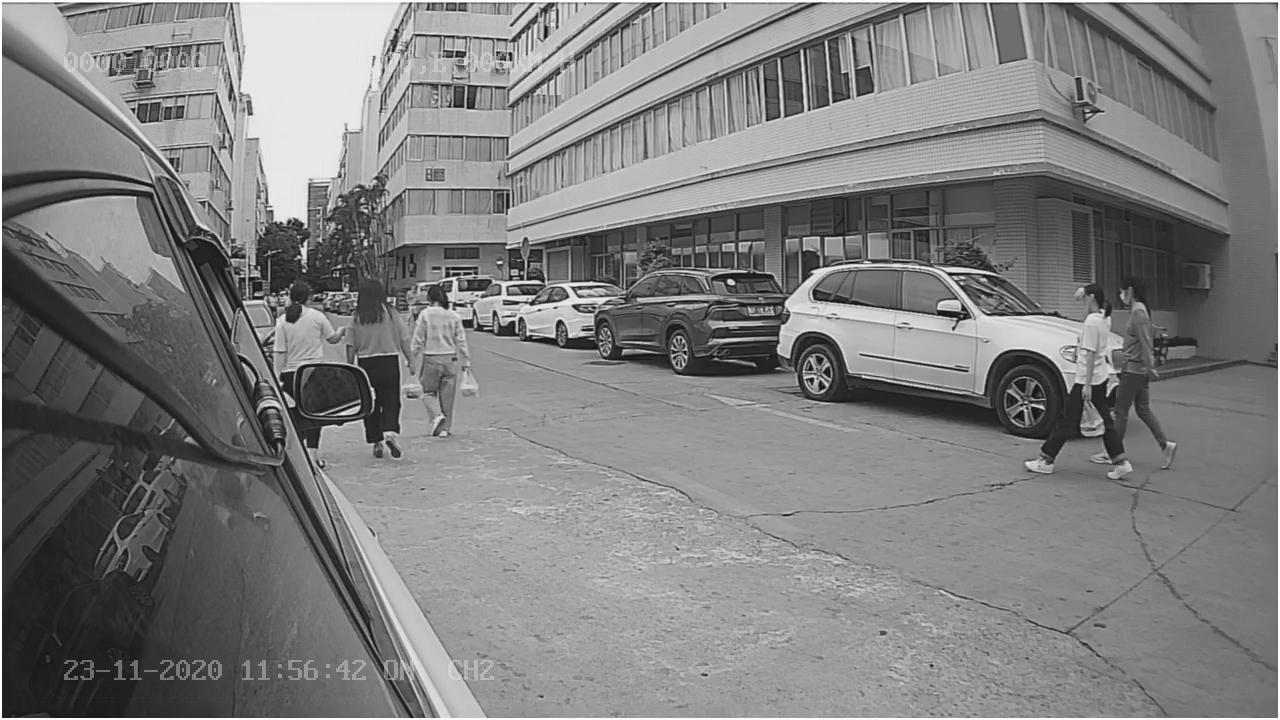person: (1030, 276, 1120, 484), (1111, 275, 1183, 478), (413, 283, 479, 446), (349, 275, 407, 459), (264, 276, 344, 365)
